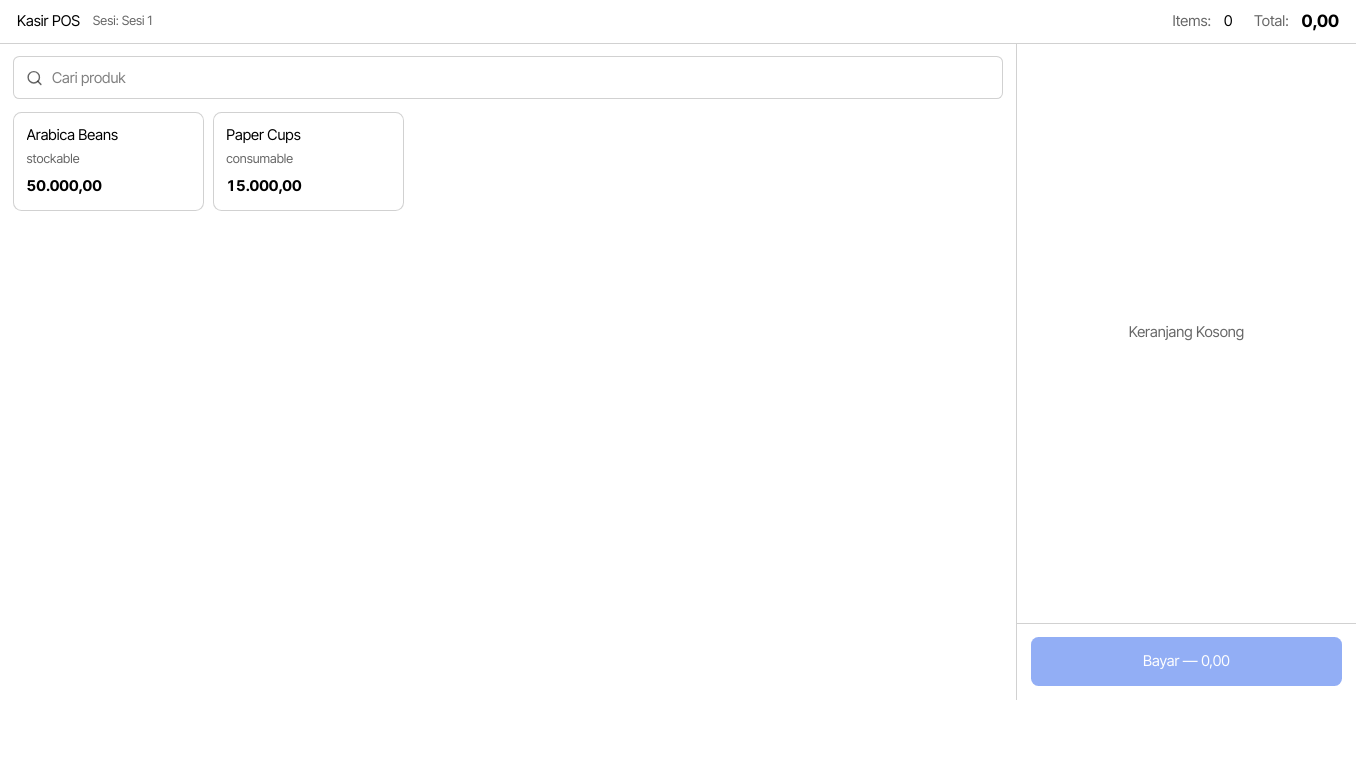
PosRegister extra2 › clears the cart
Expected: the text "Arabica Beans" is shown, [26,125,118,147]
Click the button "Arabica Beans stockable 50.000,00": point(108, 161) [13,112,204,211]
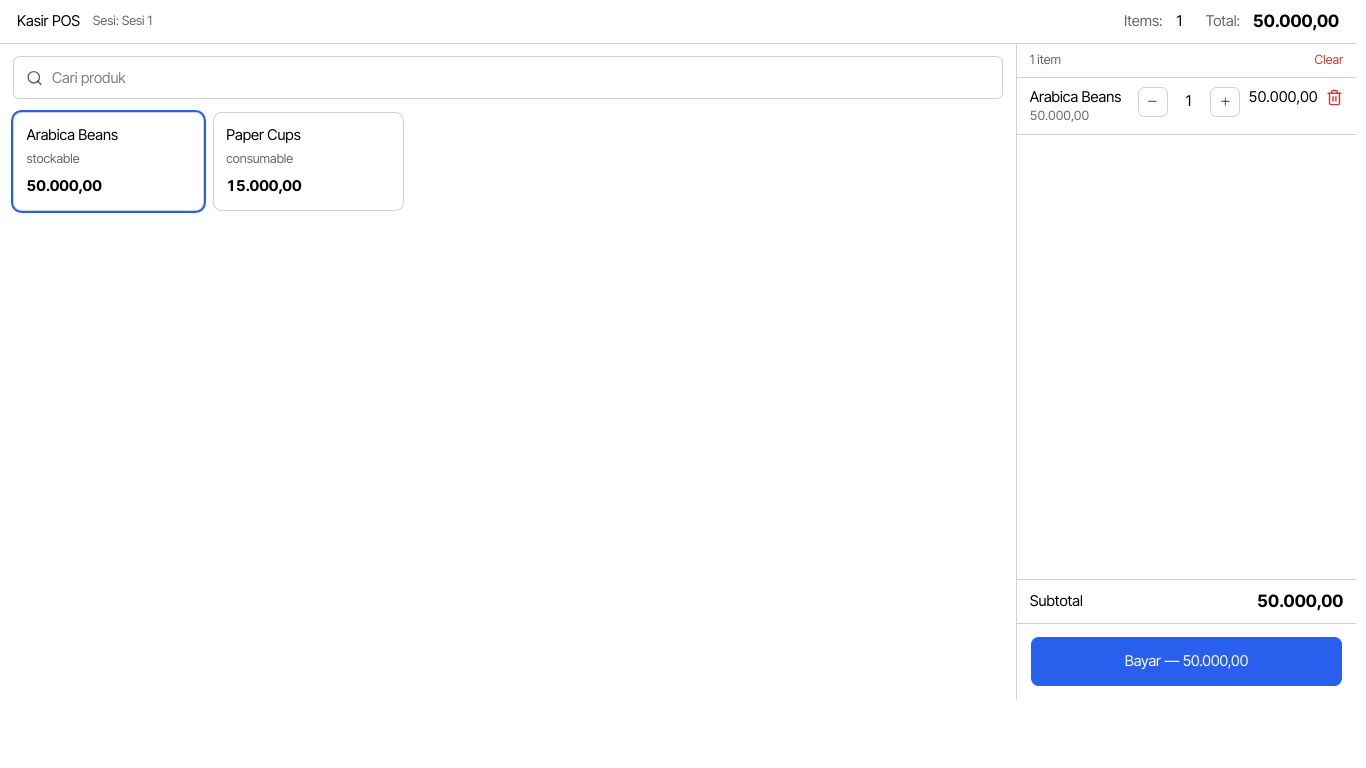
Now the text "1 item" is shown, box [1030,52,1061,69]
Click the button "Clear": point(1329, 60) [1315,52,1343,69]
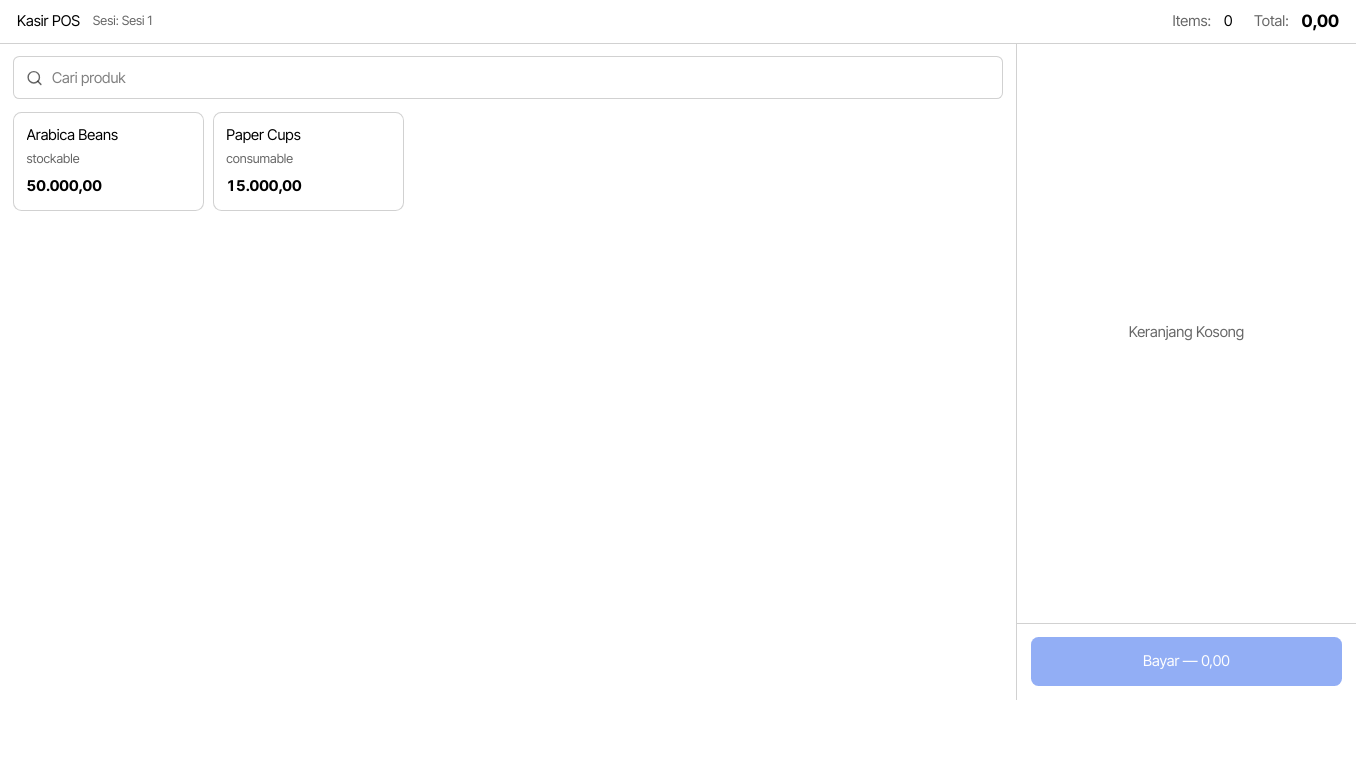
Now the text "Keranjang Kosong" is shown, box [1129,322,1244,344]
